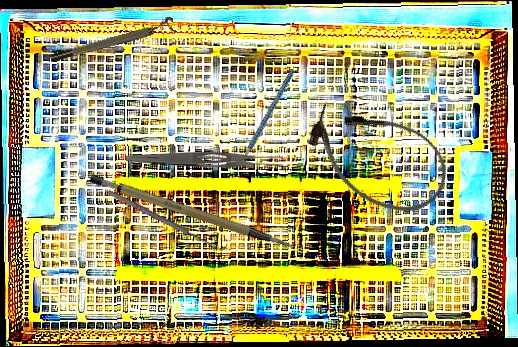Cannula: (293, 85, 462, 230)
Chopper: (207, 68, 325, 181)
Dressing Forceps: (126, 152, 283, 169)
Fixation Ring: (47, 15, 177, 65)
Hook Surgical: (106, 184, 228, 255)
Scalpel Handle: (87, 149, 295, 280)
